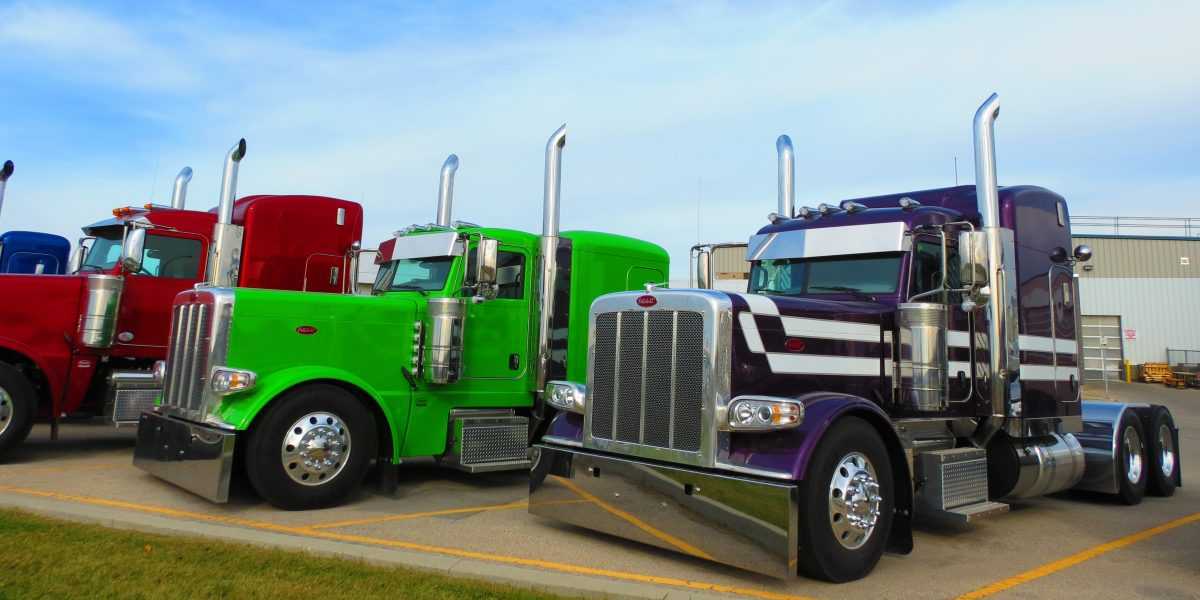Truck: (674, 164, 1103, 592), (218, 200, 585, 534)
